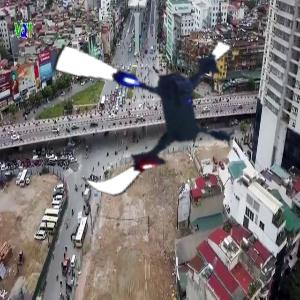drone: (43, 9, 251, 217)
